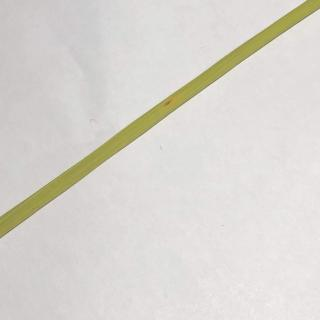bercak-Cokelat: (162, 96, 176, 110)
